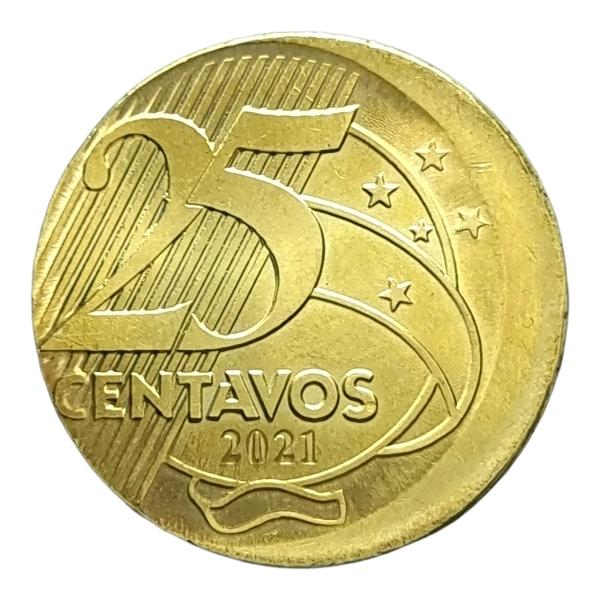25 cent: (27, 24, 577, 576)
